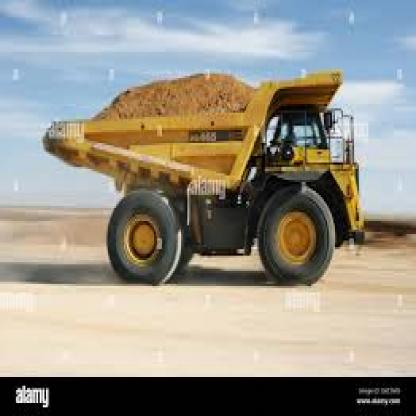dump_truck: (49, 31, 386, 304)
